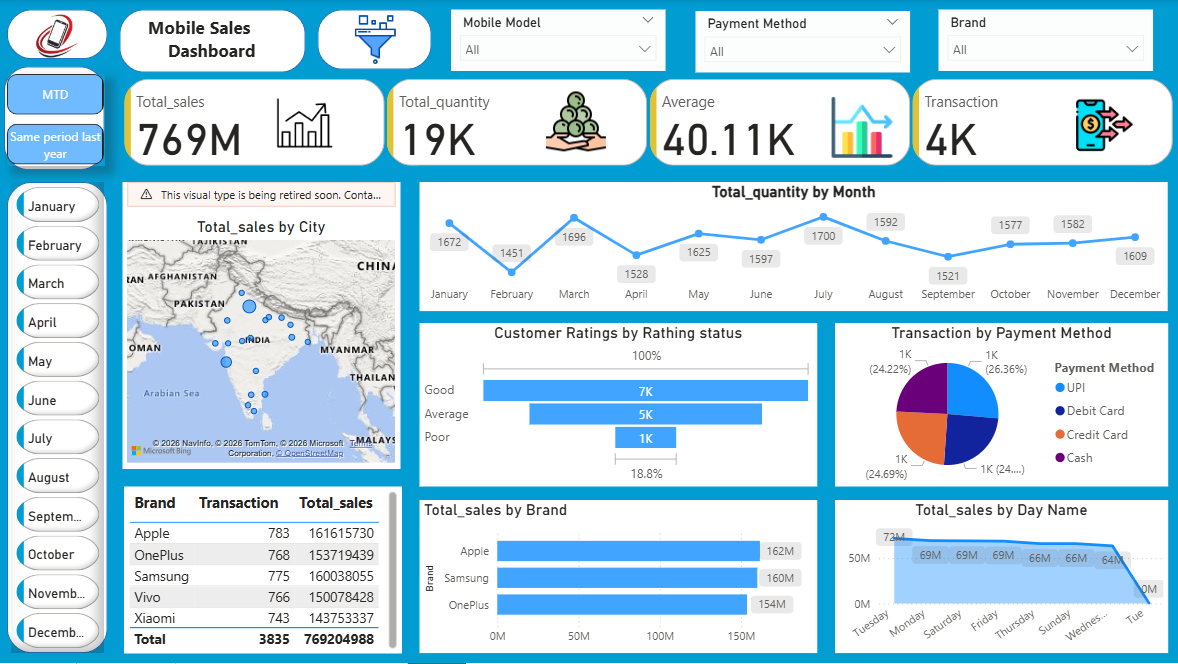

The page's visual inventory and layout, read from the dashboard file:
{"tool":"powerbi","page":{"name":"Same period last year","canvas":[1280,720],"ordinal":2},"visuals":[{"type":"shape","box":[346.5,11.4,123.6,65.1],"z":0},{"type":"shape","box":[9.8,198.4,109,510.7],"z":1000},{"type":"advancedSlicerVisual","fields":{"Values":["Date.Date.Variation.Date Hierarchy.Month"]},"box":[11.4,198.4,100.8,510.7],"z":2000},{"type":"shape","box":[9.8,11.4,109,53.7],"z":3000},{"type":"shape","box":[6.5,76.4,109,109],"z":4000},{"type":"image","box":[29.3,6.5,69.9,66.7],"z":5000},{"type":"image","box":[372.5,11.4,73.2,65.1],"z":6000},{"type":"cardVisual","fields":{"Data":["Mobile_sales.Total_sales","Mobile_sales.Total_quantity","Mobile_sales.Average","Mobile_sales.Transaction"]},"box":[131.8,81.3,1148.3,104.1],"z":7000},{"type":"image","box":[566,92.7,122,79.7],"z":8000},{"type":"image","box":[1119.1,100.8,161,71.6],"z":9000},{"type":"image","box":[853.9,100.8,165.9,76.4],"z":10000},{"type":"image","box":[229.3,91.1,206.6,86.2],"z":11000},{"type":"slicer","fields":{"Values":["Mobile_sales.Mobile Model"]},"box":[491.2,11.4,232.6,66.7],"z":12000},{"type":"slicer","fields":{"Values":["Mobile_sales.Payment Method"]},"box":[756.3,13,232.6,66.7],"z":13000},{"type":"slicer","fields":{"Values":["Date.Date.Variation.Date Hierarchy.Year"]},"box":[1019.8,11.4,232.6,66.7],"z":14000},{"type":"shape","box":[131.8,11.4,201.7,68.3],"z":15000},{"type":"textbox","box":[157.8,13,148,61.8],"z":16000},{"type":"tableEx","fields":{"Values":["Date.Date.Variation.Date Hierarchy.Year","Date.Date.Variation.Date Hierarchy.Quarter","Mobile_sales.Total_sales","Mobile_sales.same period last year"]},"box":[141.5,198.4,424.5,227.7],"z":17000},{"type":"clusteredColumnChart","fields":{"Category":["Date.Date.Variation.Date Hierarchy.Year","Date.Date.Variation.Date Hierarchy.Quarter","Date.Date.Variation.Date Hierarchy.Month"],"Y":["Mobile_sales.Total_sales","Mobile_sales.same period last year"]},"box":[595.3,198.4,657.1,227.7],"z":18000},{"type":"clusteredColumnChart","fields":{"Y":["Mobile_sales.Total_sales","Mobile_sales.same period last year"],"Category":["Date.Date.Variation.Date Hierarchy.Quarter"]},"box":[131.8,453.8,434.3,240.7],"z":19000},{"type":"clusteredColumnChart","fields":{"Y":["Mobile_sales.Total_sales","Mobile_sales.same period last year"],"Category":["Date.Date.Variation.Date Hierarchy.Year","Date.Date.Variation.Date Hierarchy.Quarter","Date.Date.Variation.Date Hierarchy.Month","Date.Date.Variation.Date Hierarchy.Day"]},"box":[608.3,468.4,644.1,240.7],"z":20000},{"type":"pageNavigator","box":[15.1,77.5,83.2,94.5],"z":21000}]}

Visuals, with their boxes in screenshot pixels (x1, y1, x2, y2), scaled from the page's 1280x720 canvas onto the 1178x664 screenshot:
shape: l=319, t=11, r=433, b=71
shape: l=9, t=183, r=109, b=654
advancedSlicerVisual - Date.Date.Variation.Date Hierarchy.Month: l=10, t=183, r=103, b=654
shape: l=9, t=11, r=109, b=60
shape: l=6, t=70, r=106, b=171
image: l=27, t=6, r=91, b=68
image: l=343, t=11, r=410, b=71
cardVisual - Mobile_sales.Total_sales x Mobile_sales.Total_quantity: l=121, t=75, r=1177, b=171
image: l=521, t=85, r=633, b=159
image: l=1030, t=93, r=1177, b=159
image: l=786, t=93, r=939, b=163
image: l=211, t=84, r=401, b=164
slicer - Mobile_sales.Mobile Model: l=452, t=11, r=666, b=72
slicer - Mobile_sales.Payment Method: l=696, t=12, r=910, b=74
slicer - Date.Date.Variation.Date Hierarchy.Year: l=939, t=11, r=1153, b=72
shape: l=121, t=11, r=307, b=74
textbox: l=145, t=12, r=281, b=69
tableEx - Date.Date.Variation.Date Hierarchy.Year x Date.Date.Variation.Date Hierarchy.Quarter: l=130, t=183, r=521, b=393
clusteredColumnChart - Date.Date.Variation.Date Hierarchy.Year x Date.Date.Variation.Date Hierarchy.Quarter: l=548, t=183, r=1153, b=393
clusteredColumnChart - Mobile_sales.Total_sales x Mobile_sales.same period last year: l=121, t=419, r=521, b=640
clusteredColumnChart - Mobile_sales.Total_sales x Mobile_sales.same period last year: l=560, t=432, r=1153, b=654
pageNavigator: l=14, t=71, r=90, b=159
